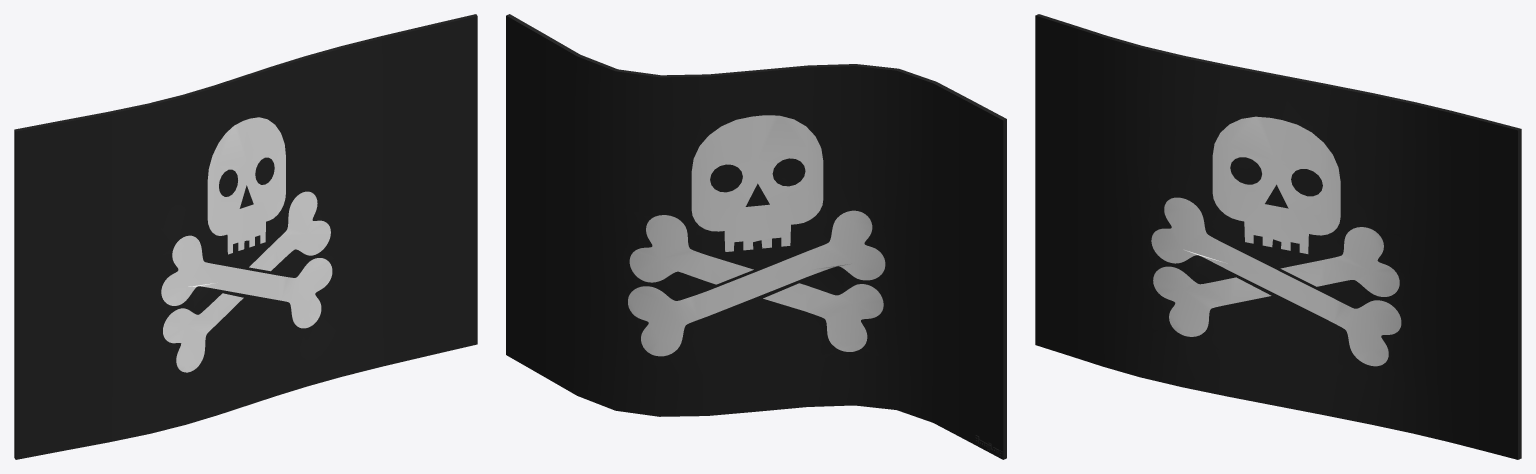
File: pirate_flag.glb
3 views of the same model, side by side, from view 1: azimuth 30°, elevation 25°; view 2: azimuth 150°, elevation 25°; view 3: azimuth 330°, elevation 25° (orthographic). The views are drawn at different scales.
Parts seen in each view (by area): view 1: flag.006; view 2: flag.006; view 3: flag.006.
Part boxes in pixels (x1,y1,x2,y2): flag.006: [14, 14, 477, 459]; flag.006: [506, 14, 1006, 459]; flag.006: [1035, 14, 1521, 459].
Size of the model in its own units: 2.19 by 1.58 by 0.3373.
Materials: 1 (1 with a texture image).
